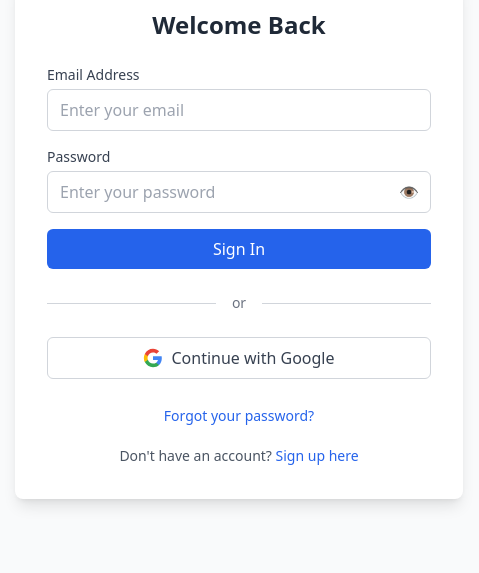
LoginForm › should validate email field
# Test invalid email
Type "invalid-email" into the field labelled "Email Address". click: (239, 110)
box: [47,89,431,131]
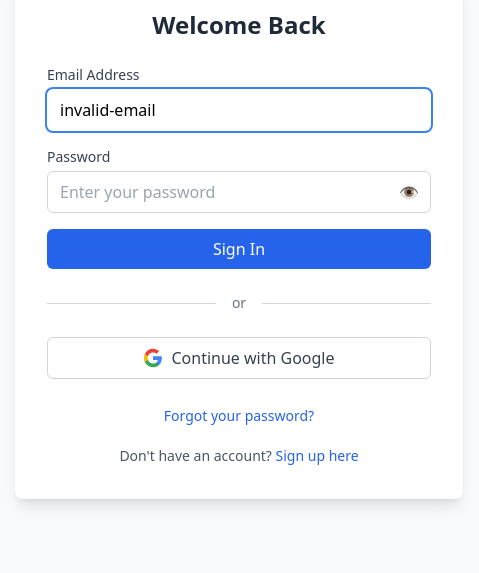
Click the button "Sign In". click: (239, 249)
box: [47,229,431,269]
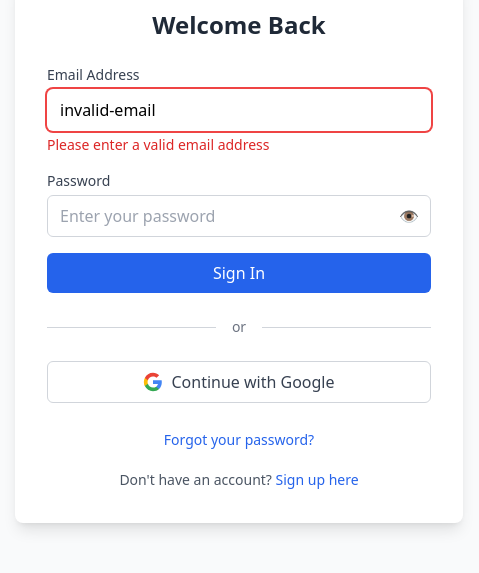
expect the text "Please enter a valid email address" is shown: met, box [47,135,270,154]
# Test empty email
Clear the field labelled "Email Address". click: (239, 110)
box: [47,89,431,131]
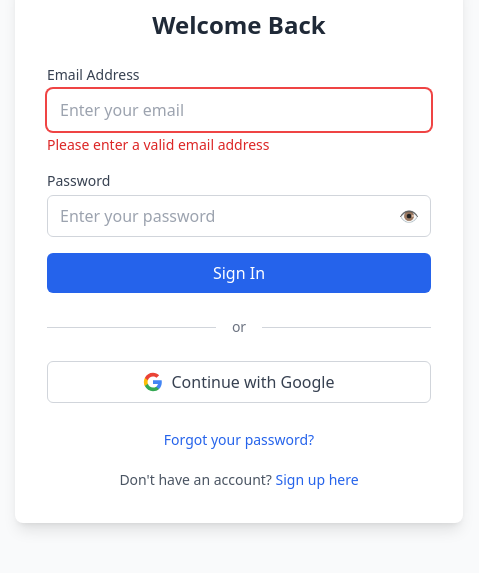
Click the button "Sign In". click: (239, 273)
box: [47,253,431,293]
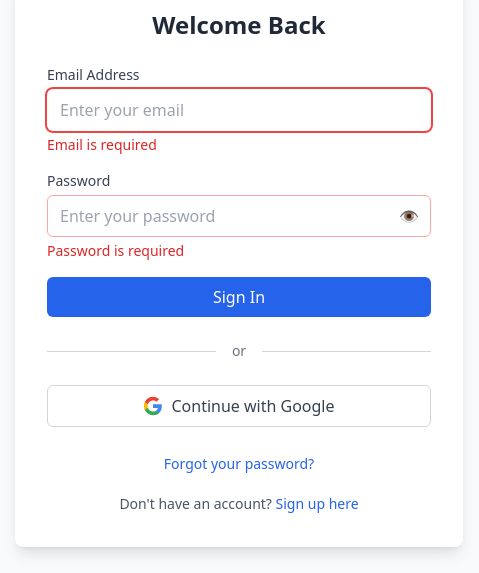
expect the text "Email is required" is shown: met, box [47,135,157,154]
